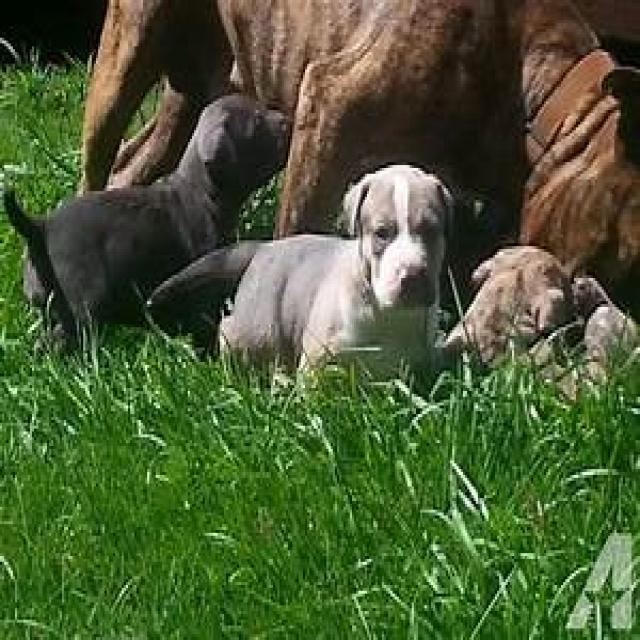KOPEK: (0, 83, 292, 350), (224, 154, 446, 386)
